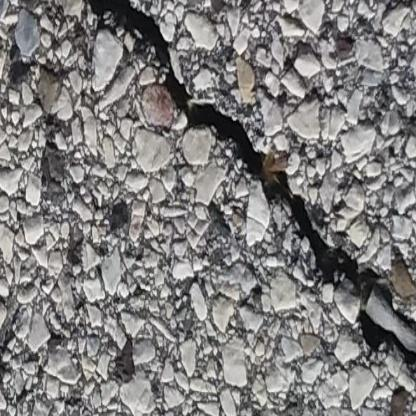Cracks: (83, 0, 416, 374)
